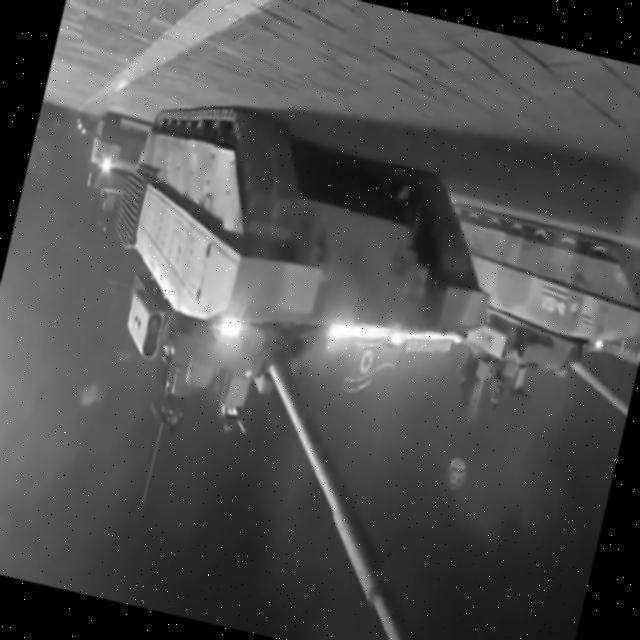north tank: (40, 81, 536, 640), (364, 124, 640, 452), (71, 61, 205, 260)
